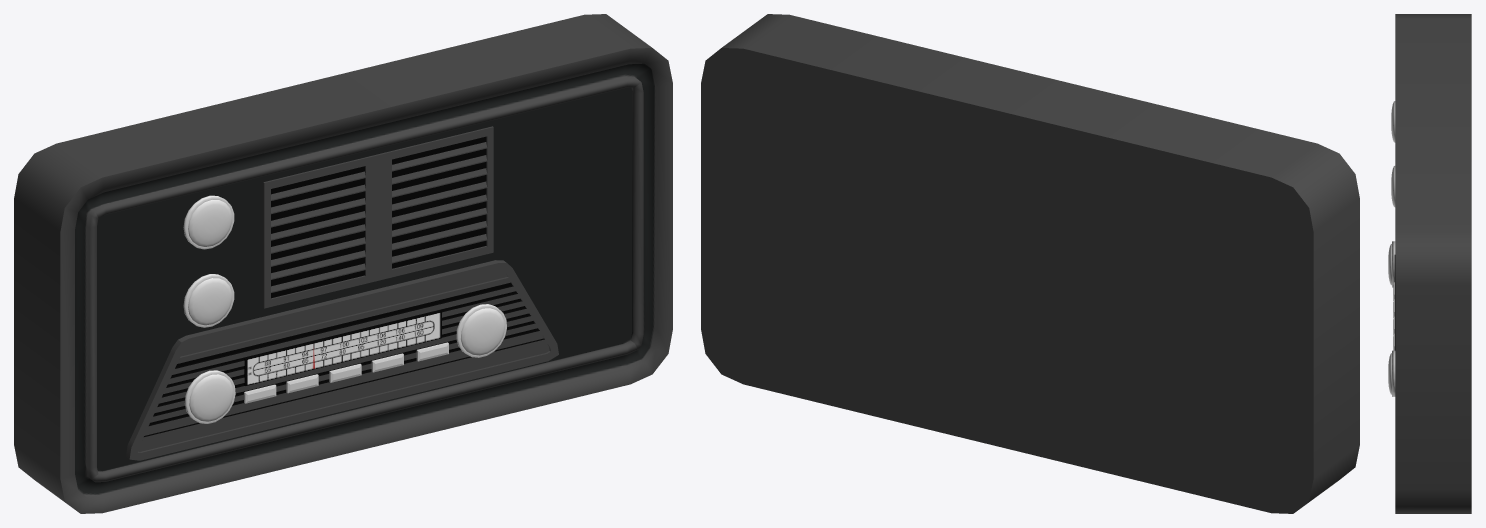
The model's file is Radio002.fbx.
3 views of the same model, side by side, from view 1: azimuth 30°, elevation 25°; view 2: azimuth 150°, elevation 25°; view 3: azimuth 270°, elevation 25° (orthographic). The views are drawn at different scales.
Visible parts, largest first — view 1: Radio002, Speaker, Speaker002, Box001, Dials002, Dials001; view 2: Radio002; view 3: Radio002, Dials001, Dials002, Box001.
Boxes of the visible parts, left/top/right/bottom form: Radio002: left=14, top=14, right=672, bottom=513; Speaker: left=126, top=260, right=558, bottom=460; Speaker002: left=263, top=126, right=493, bottom=308; Box001: left=244, top=310, right=441, bottom=385; Dials002: left=183, top=195, right=234, bottom=327; Dials001: left=184, top=304, right=506, bottom=423; Radio002: left=701, top=14, right=1359, bottom=513; Radio002: left=1395, top=14, right=1471, bottom=513; Dials001: left=1388, top=241, right=1395, bottom=396; Dials002: left=1391, top=101, right=1395, bottom=207; Box001: left=1394, top=255, right=1395, bottom=350.
Bounding box in the file's own units: 21 × 11 × 3.01.
